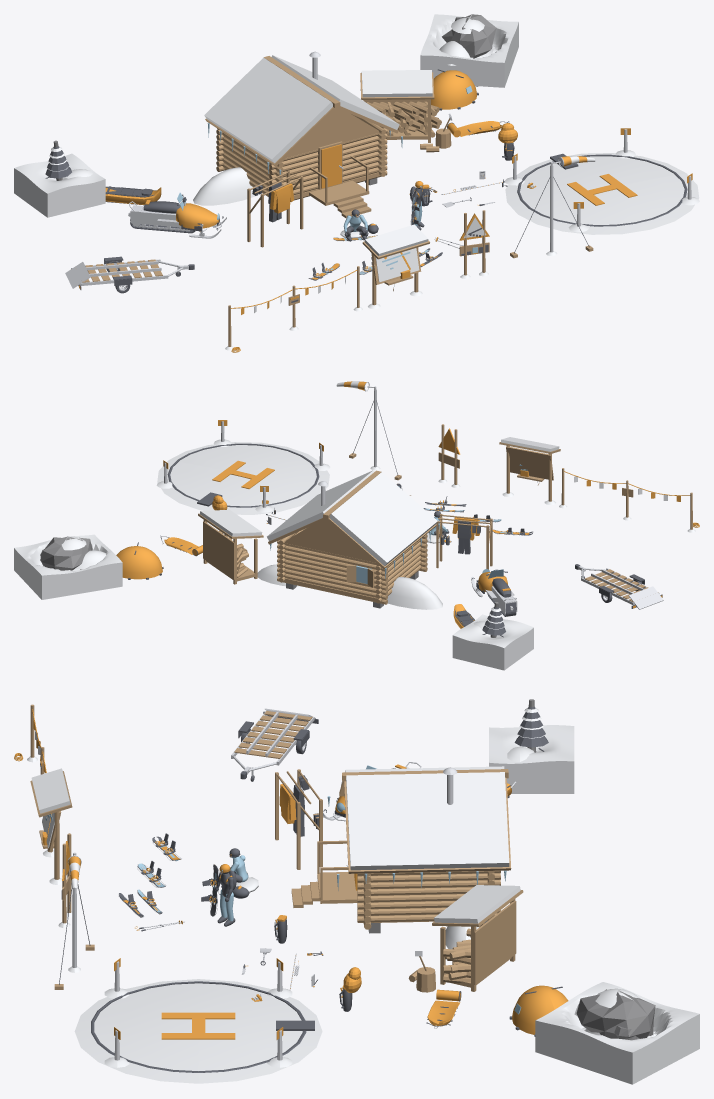
The model's file is backcountry-snowboarding-and-avalanche-safety-hut-and--27b2be7c__18964.glb.
The picture shows the model from 3 angles, top to bottom: view 1: azimuth 30°, elevation 25°; view 2: azimuth 150°, elevation 25°; view 3: azimuth 270°, elevation 25°; orthographic projection. The views are drawn at different scales.
Parts seen in each view (by area): view 1: 006-helicopter-pad-marker/0, 000-backcountry-hut/2, 000-backcountry-hut/0, 028-boulder-in-snow/0, 029-buried-sapling/0, 001-wood-store/0, 009-trailhead-map-board/1, 001-wood-store/1, 027-group-bivvy-shelter/0, 005-snowmobile-trailer/1, 028-boulder-in-snow/1, 002-drying-rack/0 (+12 smaller); view 2: 006-helicopter-pad-marker/0, 000-backcountry-hut/2, 000-backcountry-hut/0, 028-boulder-in-snow/0, 029-buried-sapling/0, 001-wood-store/0, 009-trailhead-map-board/0, 027-group-bivvy-shelter/0, 028-boulder-in-snow/1, 005-snowmobile-trailer/1, 001-wood-store/1, 002-drying-rack/0 (+7 smaller); view 3: 006-helicopter-pad-marker/0, 000-backcountry-hut/2, 000-backcountry-hut/0, 028-boulder-in-snow/0, 001-wood-store/0, 029-buried-sapling/0, 028-boulder-in-snow/1, 001-wood-store/1, 006-helicopter-pad-marker/3, 005-snowmobile-trailer/0, 009-trailhead-map-board/1, 027-group-bivvy-shelter/0 (+9 smaller).
Boxes of the visible parts, x1,y1,x2,y2 form: 006-helicopter-pad-marker/0: (505, 150, 699, 234); 000-backcountry-hut/2: (193, 55, 399, 205); 000-backcountry-hut/0: (205, 56, 398, 217); 028-boulder-in-snow/0: (420, 14, 518, 87); 029-buried-sapling/0: (14, 147, 105, 217); 001-wood-store/0: (360, 72, 451, 152); 009-trailhead-map-board/1: (364, 224, 428, 308); 001-wood-store/1: (361, 70, 432, 97); 027-group-bivvy-shelter/0: (431, 70, 476, 109); 005-snowmobile-trailer/1: (65, 259, 188, 288); 028-boulder-in-snow/1: (442, 14, 496, 58); 002-drying-rack/0: (247, 170, 303, 247); 006-helicopter-pad-marker/0: (156, 439, 330, 514); 000-backcountry-hut/2: (257, 470, 442, 609); 000-backcountry-hut/0: (268, 470, 436, 604); 028-boulder-in-snow/0: (14, 534, 122, 599); 029-buried-sapling/0: (452, 607, 533, 670); 001-wood-store/0: (198, 513, 263, 584); 009-trailhead-map-board/0: (499, 442, 560, 501); 027-group-bivvy-shelter/0: (116, 546, 162, 579); 028-boulder-in-snow/1: (40, 536, 92, 570); 005-snowmobile-trailer/1: (578, 566, 663, 609); 001-wood-store/1: (200, 509, 262, 536); 002-drying-rack/0: (436, 513, 492, 569); 006-helicopter-pad-marker/0: (74, 979, 322, 1083); 000-backcountry-hut/2: (341, 766, 509, 949); 000-backcountry-hut/0: (291, 769, 511, 929); 028-boulder-in-snow/0: (535, 982, 699, 1084); 001-wood-store/0: (408, 890, 523, 992); 029-buried-sapling/0: (489, 708, 574, 793); 028-boulder-in-snow/1: (576, 989, 655, 1040); 001-wood-store/1: (434, 885, 520, 923); 006-helicopter-pad-marker/3: (91, 981, 314, 1072); 005-snowmobile-trailer/0: (234, 711, 312, 758); 009-trailhead-map-board/1: (31, 768, 70, 884); 027-group-bivvy-shelter/0: (512, 985, 568, 1034).
Size of the model in its own units: 22.3 by 4.17 by 17.71.
